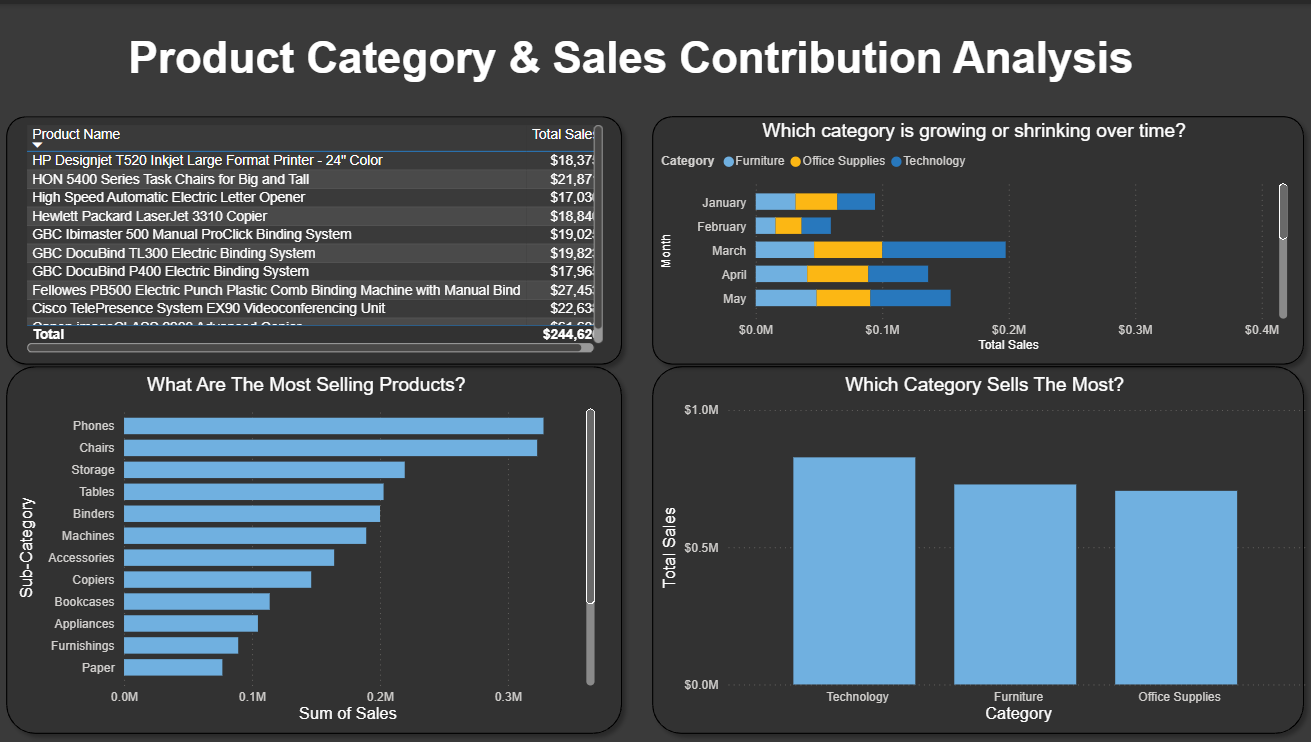

The page's visual inventory and layout, read from the dashboard file:
{"tool":"powerbi","page":{"name":"Product Category Analysis","canvas":[1280,720],"ordinal":1},"visuals":[{"type":"shape","box":[0,344,616.9,375.5],"z":500,"group":"g1"},{"type":"group","id":"g1","title":"Group 1","box":[0,100.4,1280,619.1],"z":1000},{"type":"shape","box":[628.2,344,651.8,375.5],"z":1000,"group":"g1"},{"type":"shape","box":[628.2,100.4,651.8,259.4],"z":2000,"group":"g1"},{"type":"barChart","title":"What Are The Most Selling Products?","fields":{"Y":["Sum(Super_Store_Data.Sales)"],"Category":["Super_Store_Data.Sub-Category"]},"box":[15.8,359.8,570.6,344],"z":2000},{"type":"shape","box":[0,100.4,616.9,259.4],"z":3000,"group":"g1"},{"type":"columnChart","title":"Which Category Sells The Most?","fields":{"Y":["Super_Store_Data.Total Sales"],"Category":["Super_Store_Data.Category"]},"box":[640.6,359.8,639.4,344],"z":3000},{"type":"tableEx","fields":{"Values":["Super_Store_Data.Product Name","Super_Store_Data.Total Sales"]},"box":[23.7,112.8,570.6,231.2],"z":4000},{"type":"barChart","title":"Which category is growing or shrinking over time?","fields":{"Category":["Super_Store_Data.order_date.Variation.Date Hierarchy.Month"],"Y":["Super_Store_Data.Total Sales"],"Series":["Super_Store_Data.Category"]},"box":[640.6,112.8,619.1,231.2],"z":5000},{"type":"textbox","box":[115,23.7,1003.7,64.3],"z":5500}]}

Visuals, with their boxes in screenshot pixels (x1, y1, x2, y2), scaled from the page's 1280x720 canvas onto the 1311x742 screenshot:
shape: crop(0, 355, 632, 741)
"Group 1" group: crop(0, 103, 1310, 741)
shape: crop(643, 355, 1310, 741)
shape: crop(643, 103, 1310, 371)
"What Are The Most Selling Products?" barChart: crop(16, 371, 601, 725)
shape: crop(0, 103, 632, 371)
"Which Category Sells The Most?" columnChart: crop(656, 371, 1310, 725)
tableEx - Super_Store_Data.Product Name x Super_Store_Data.Total Sales: crop(24, 116, 609, 355)
"Which category is growing or shrinking over time?" barChart: crop(656, 116, 1290, 355)
textbox: crop(118, 24, 1146, 91)
